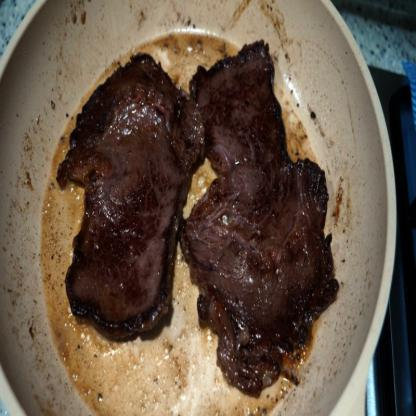Carne: (188, 38, 337, 398), (58, 57, 203, 341)
